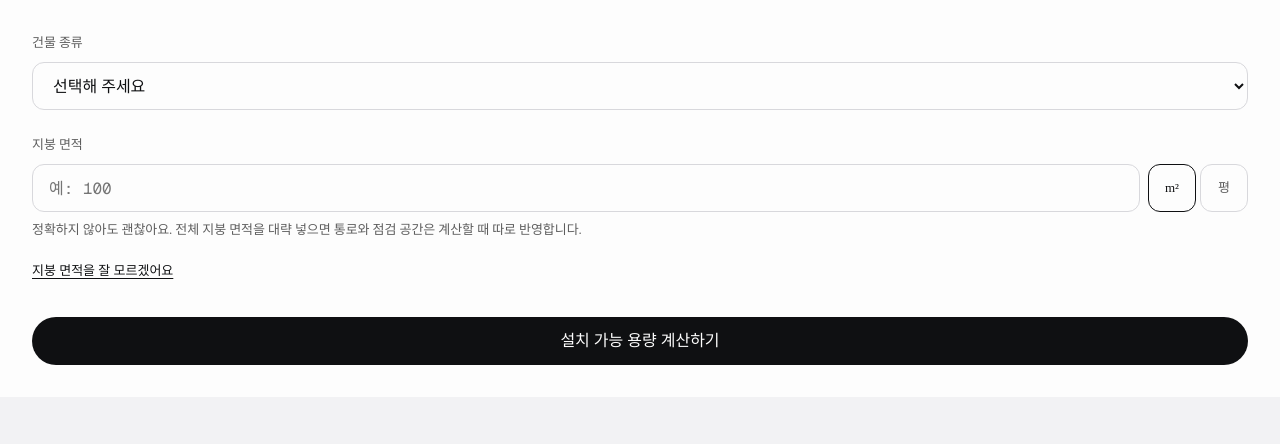
SolarCalculator › requires the user to choose a building type instead of silently assuming a home
Expected: the dropdown labelled "건물 종류" shows "선택해 주세요", [32, 62, 1248, 110]
In the number field labelled "지붕 면적": (586, 188) [32, 164, 1140, 212], type "100"
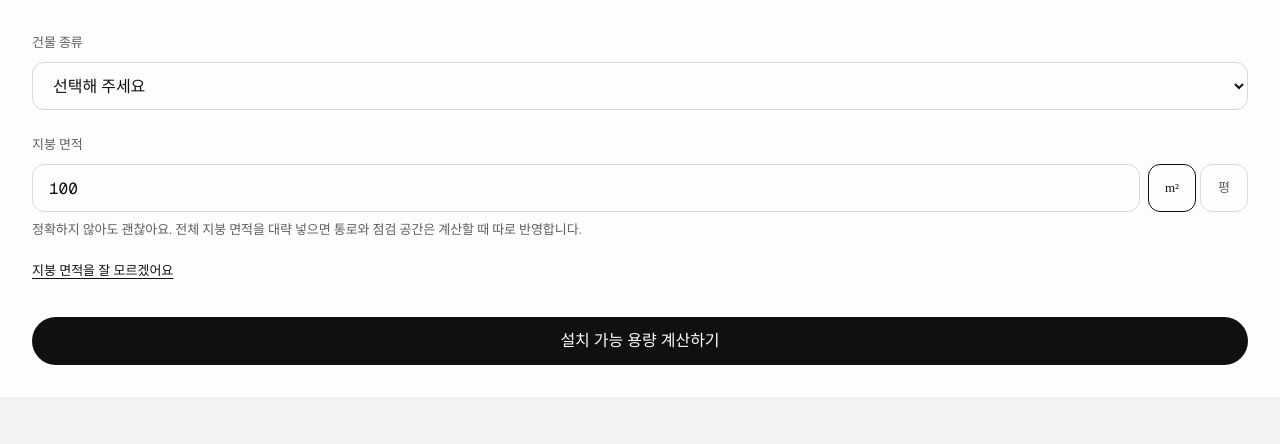
Click the button "설치 가능 용량 계산하기": (640, 341) [32, 317, 1248, 365]
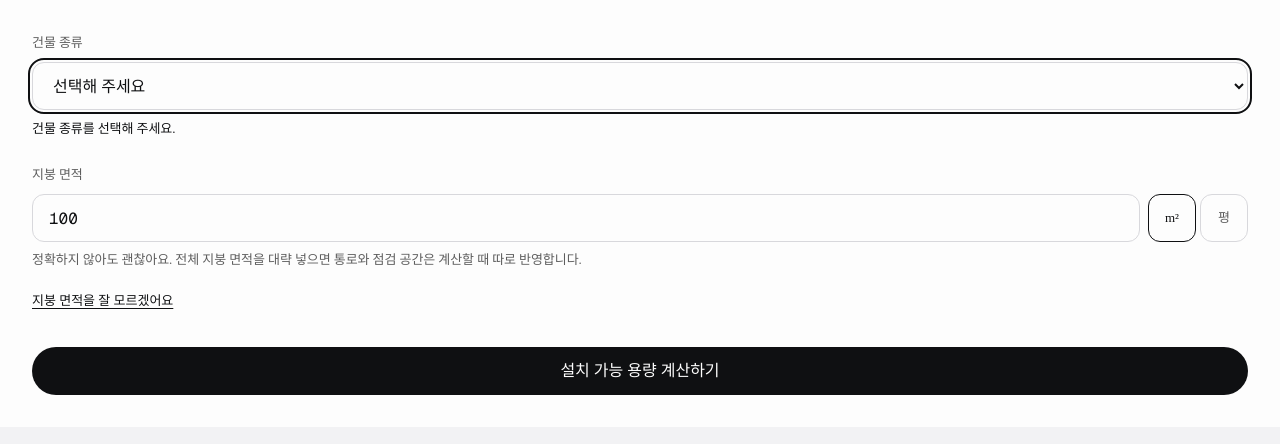
Result: the message reads "건물 종류를 선택해 주세요." at [32, 121, 175, 136]
Select "주택" in the dropdown labelled "건물 종류": (640, 86) [32, 62, 1248, 110]
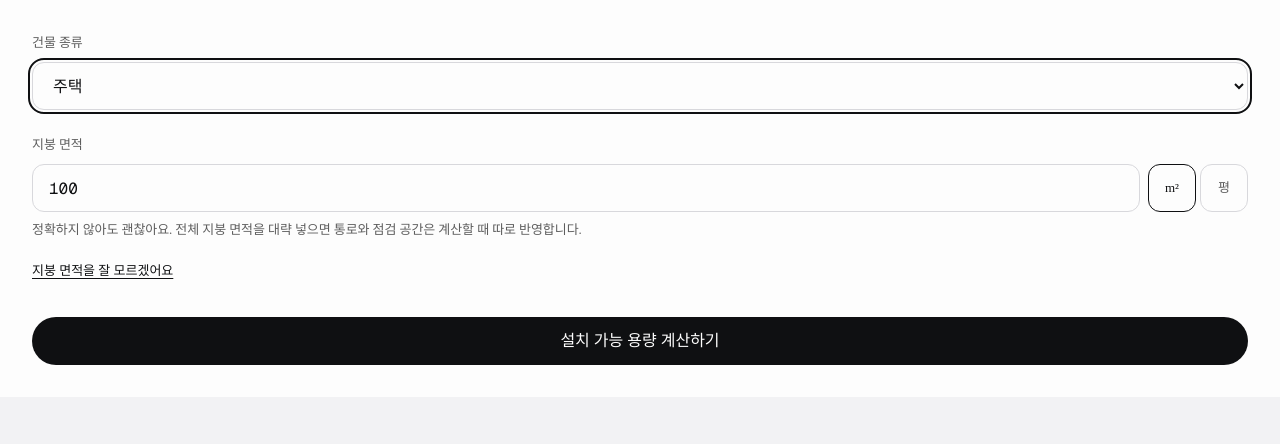
Result: the message "건물 종류를 선택해 주세요." is gone
